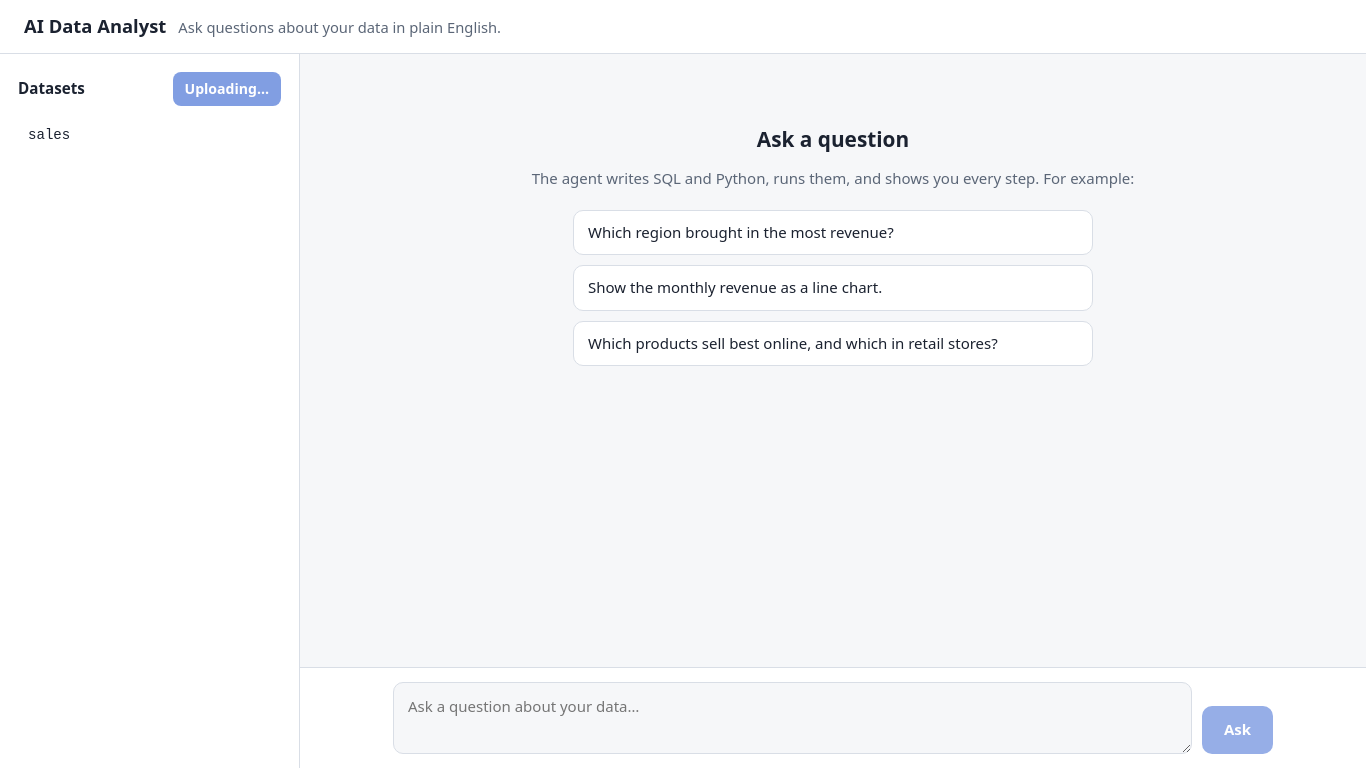
DatasetPanel › shows the new version of a dataset uploaded again, even if it was clicked meanwhile
Earlier steps of the test are not shown.
Click the button "sales".
click(49, 135)  # box [18,118,281,153]
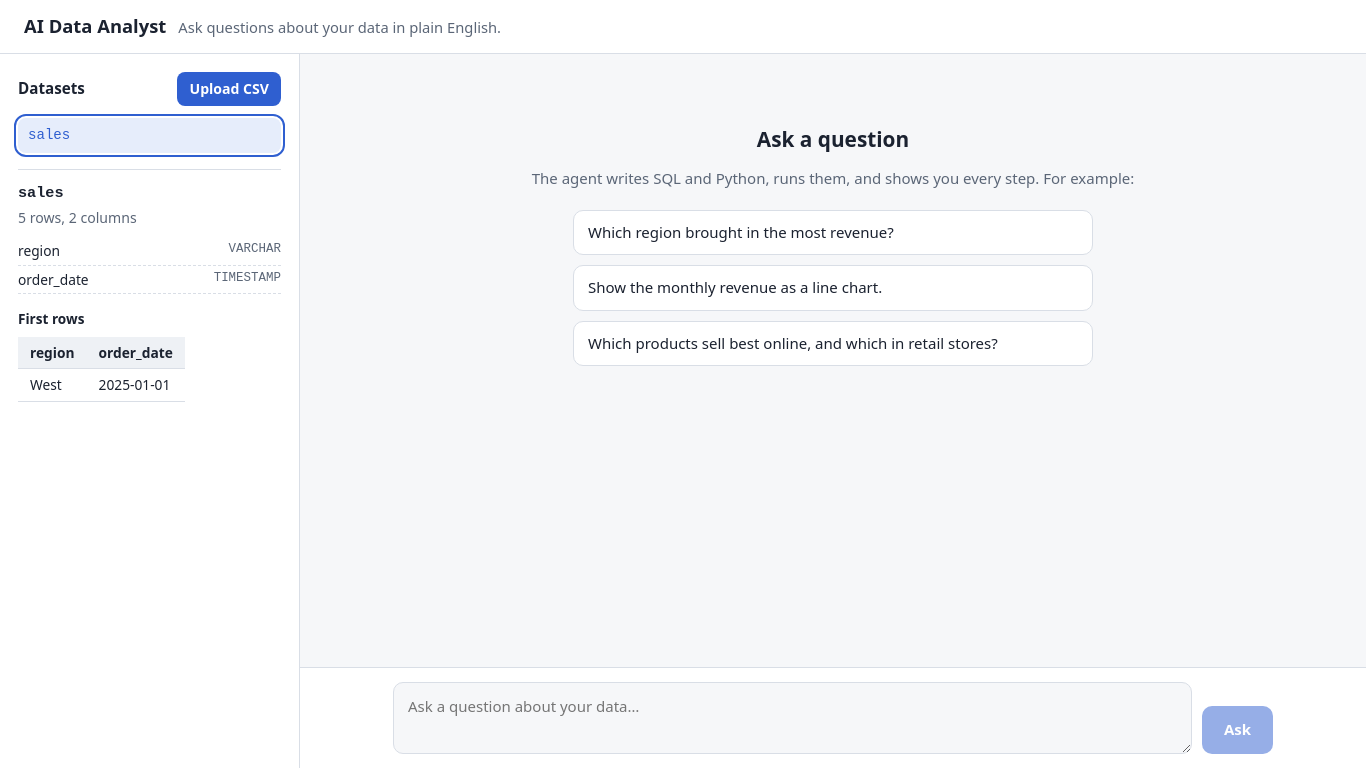
Expected: the text "5 rows, 2 columns" is shown, [18,208,137,227]
